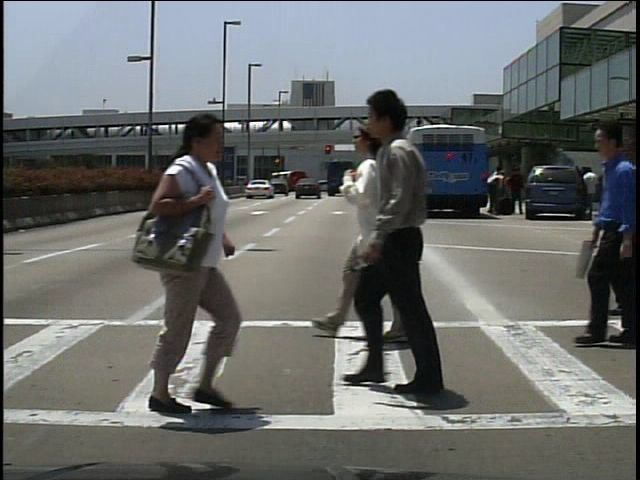person: (330, 86, 467, 398), (121, 117, 254, 418), (321, 117, 442, 358), (485, 162, 503, 214), (508, 166, 526, 216), (585, 168, 602, 218)
